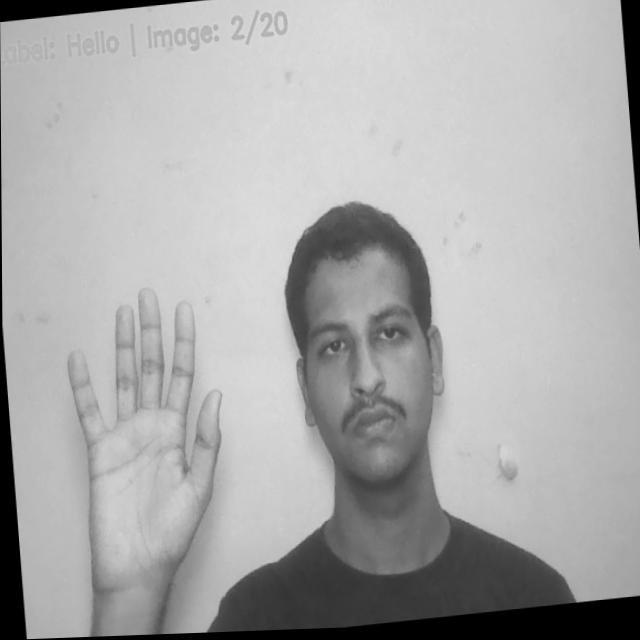Hello: (63, 282, 237, 600)
